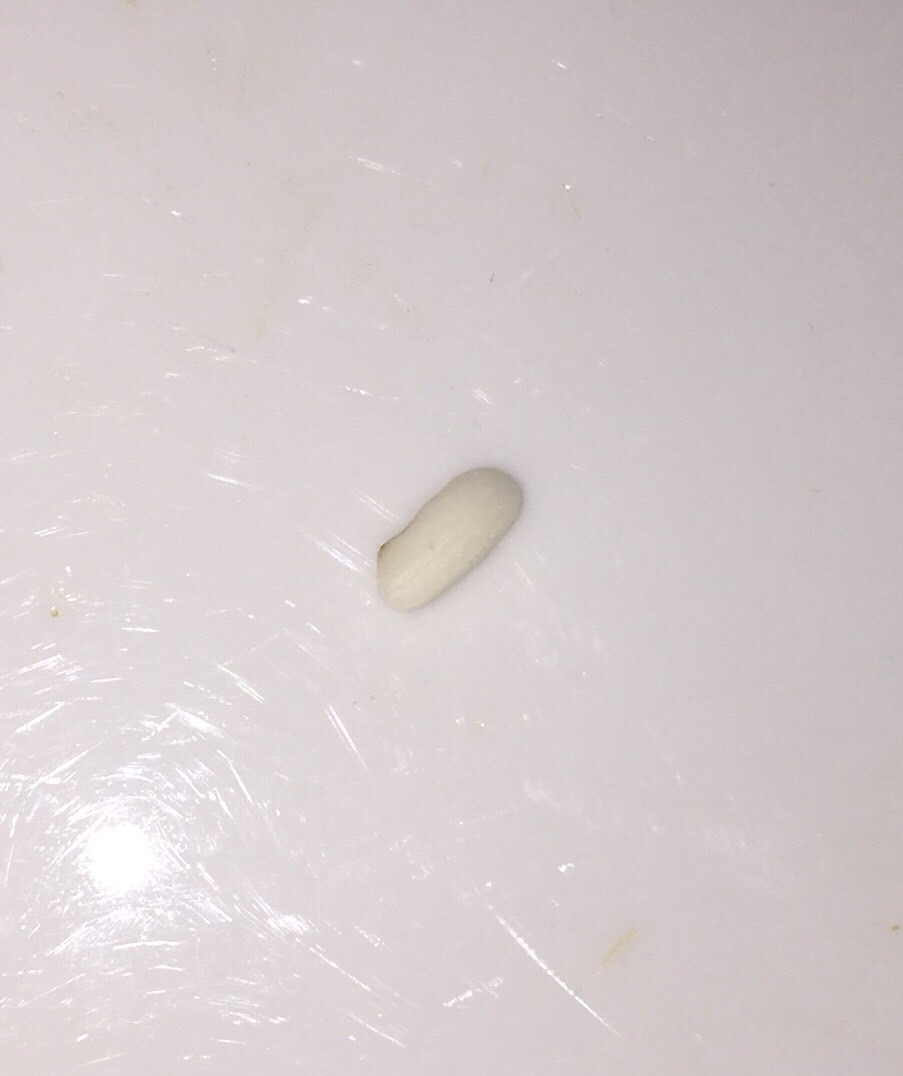Gao Nep Sap: (360, 446, 574, 650)
